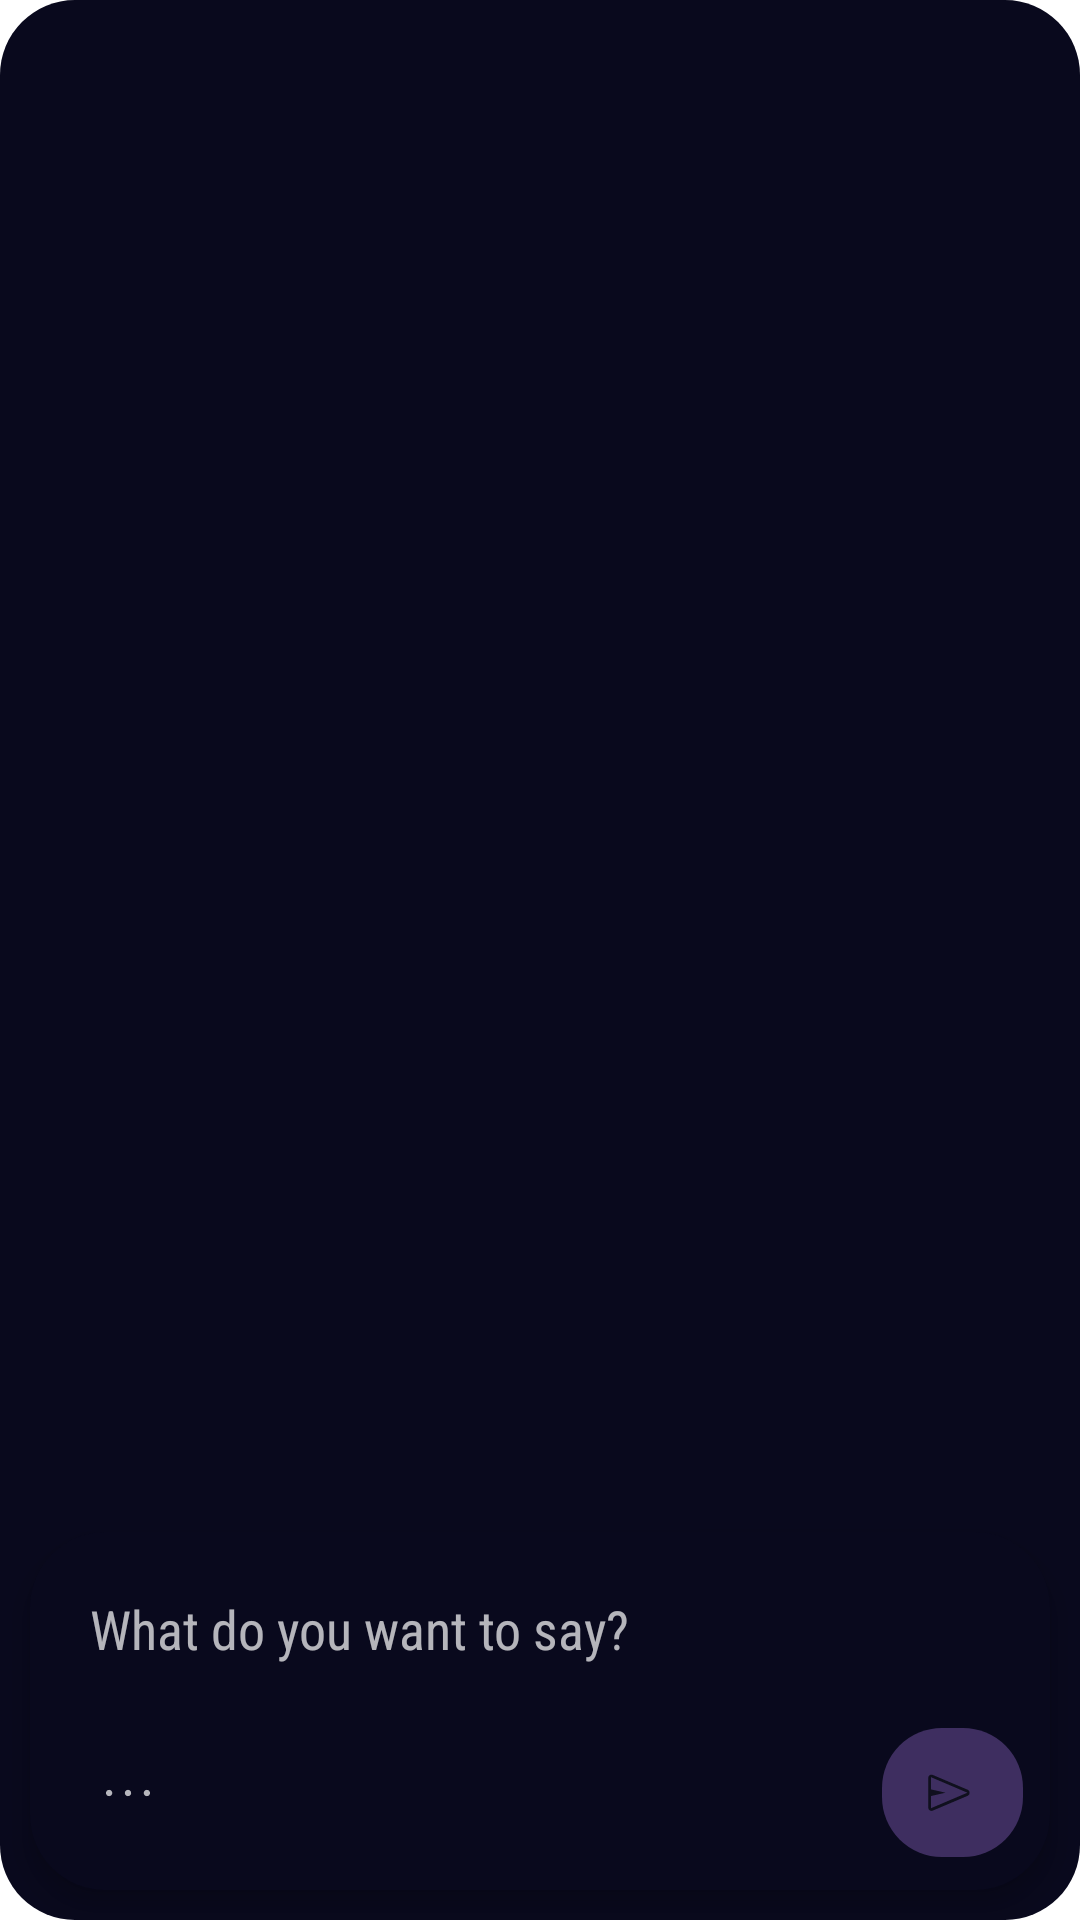

Where icons sit on this 1080 x 1920 app screen, as box=[x1, y1, x2, y2]:
send: box=[882, 1728, 1023, 1857]
